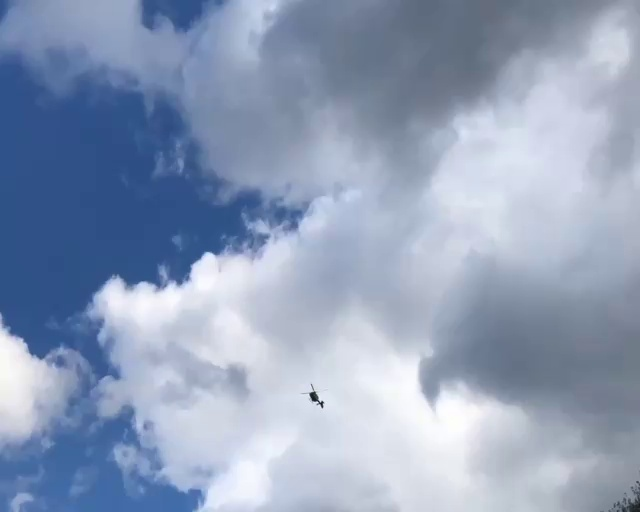HELICOPTER: (300, 382, 330, 407)
